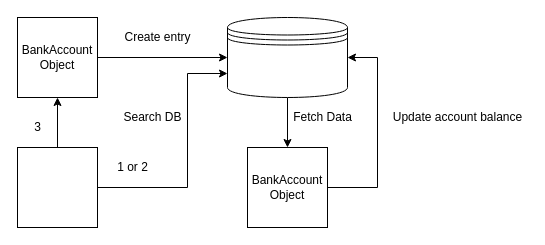
Some shapes in this 545 by 245 pixel diagram are drawn without their labels. Here are the shapes that lost their labels. From the top down, the centre of each, then its label:
At [287,57]: "customerAccounts".
At [57,187]: "User Interface".
